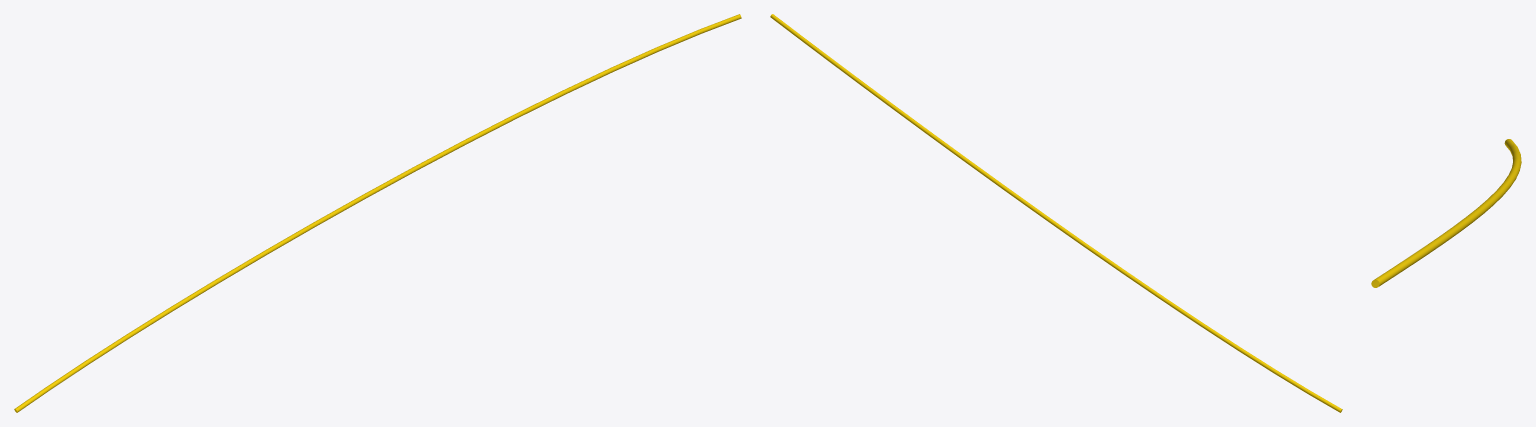
File: Event_421115418_track_81.fbx
3 renders of one model, left to right at view 1: azimuth 30°, elevation 25°; view 2: azimuth 150°, elevation 25°; view 3: azimuth 270°, elevation 25°, orthographic. The views are drawn at different scales.
Parts seen in each view (by area): view 1: Model; view 2: Model; view 3: Model.
Part boxes in pixels (x1=…): Model: x1=14, y1=14, x2=741, y2=412; Model: x1=770, y1=14, x2=1342, y2=412; Model: x1=1371, y1=139, x2=1521, y2=287.
Size of the model in its own units: 6.56 by 2.36 by 0.7057.
